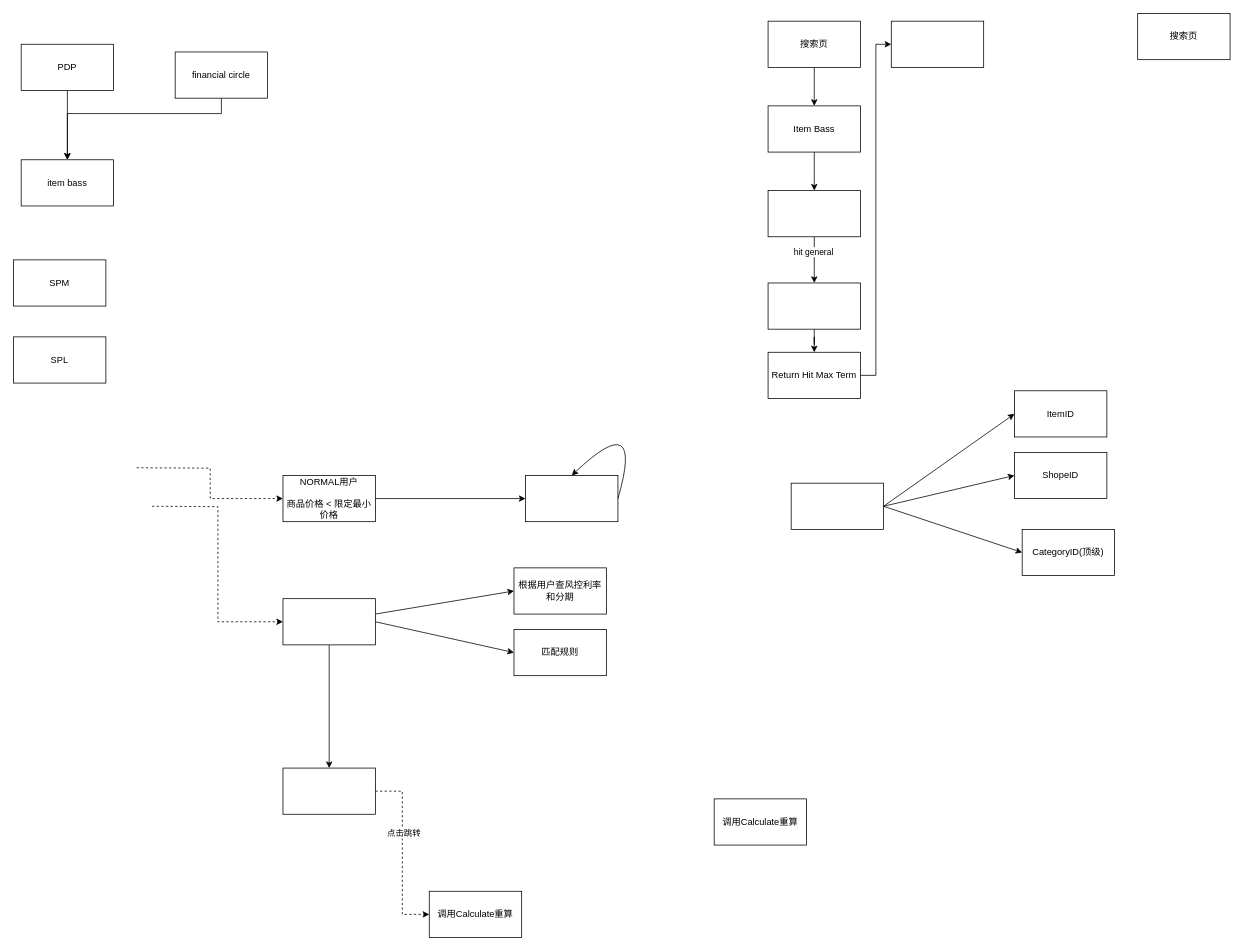
Some shapes in this 1244 by 951 pixel diagram are drawn without their labels. The centre of each missing label's shape, as x and y in pixels:
item: the point at 837,505
ItemBass Sync Rules(shopid, categoryID, itemID): the point at 813,213
NORMAL用户 商品价格 >= 限定最小价格: the point at 328,621
pricing:: QueryProductCardInfo: the point at 813,305
加到购物车: the point at 571,498
详情页(PDP): the point at 937,43
返回显示推荐分期: the point at 328,790
